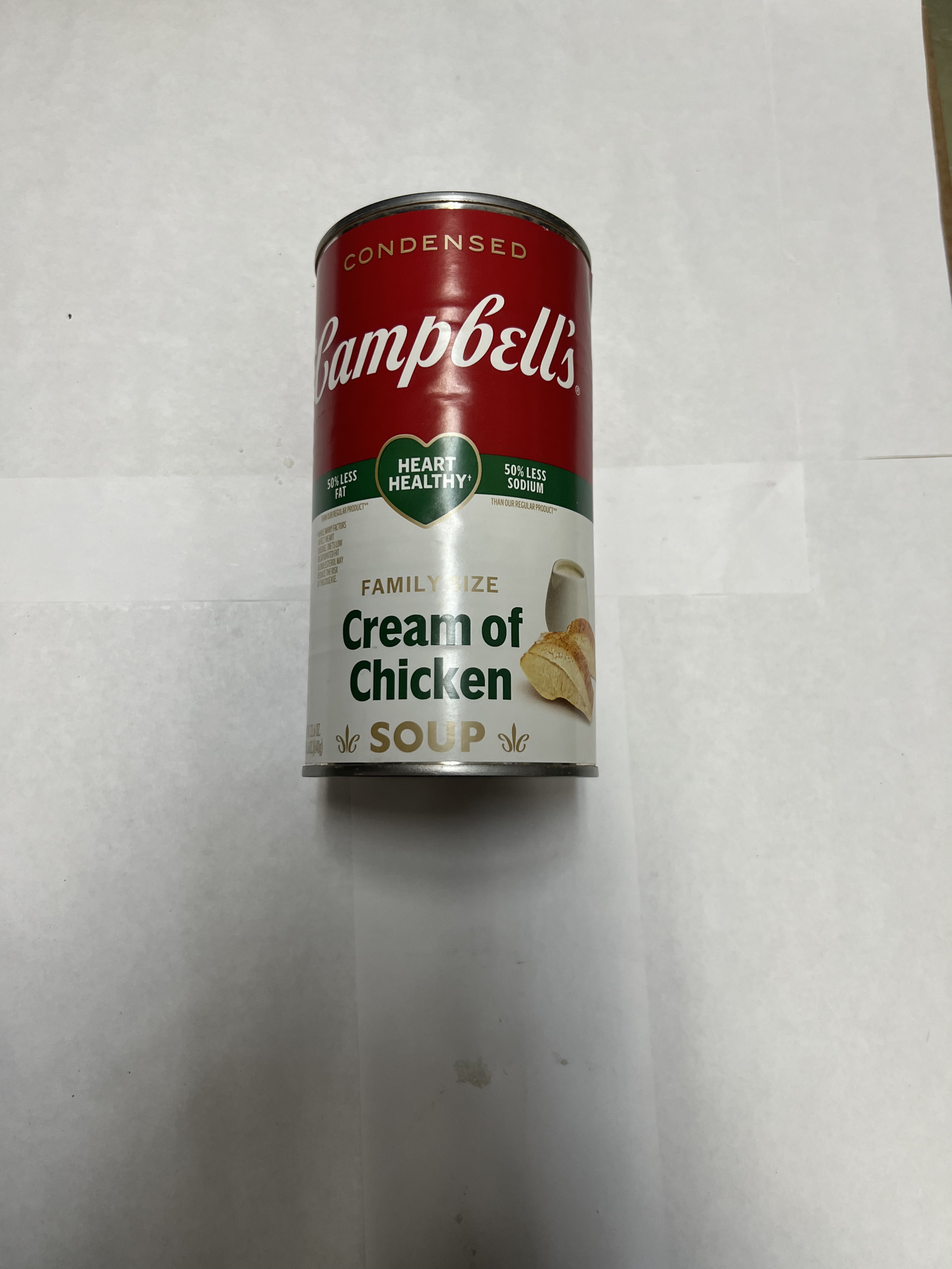packaged: (298, 185, 606, 786)
